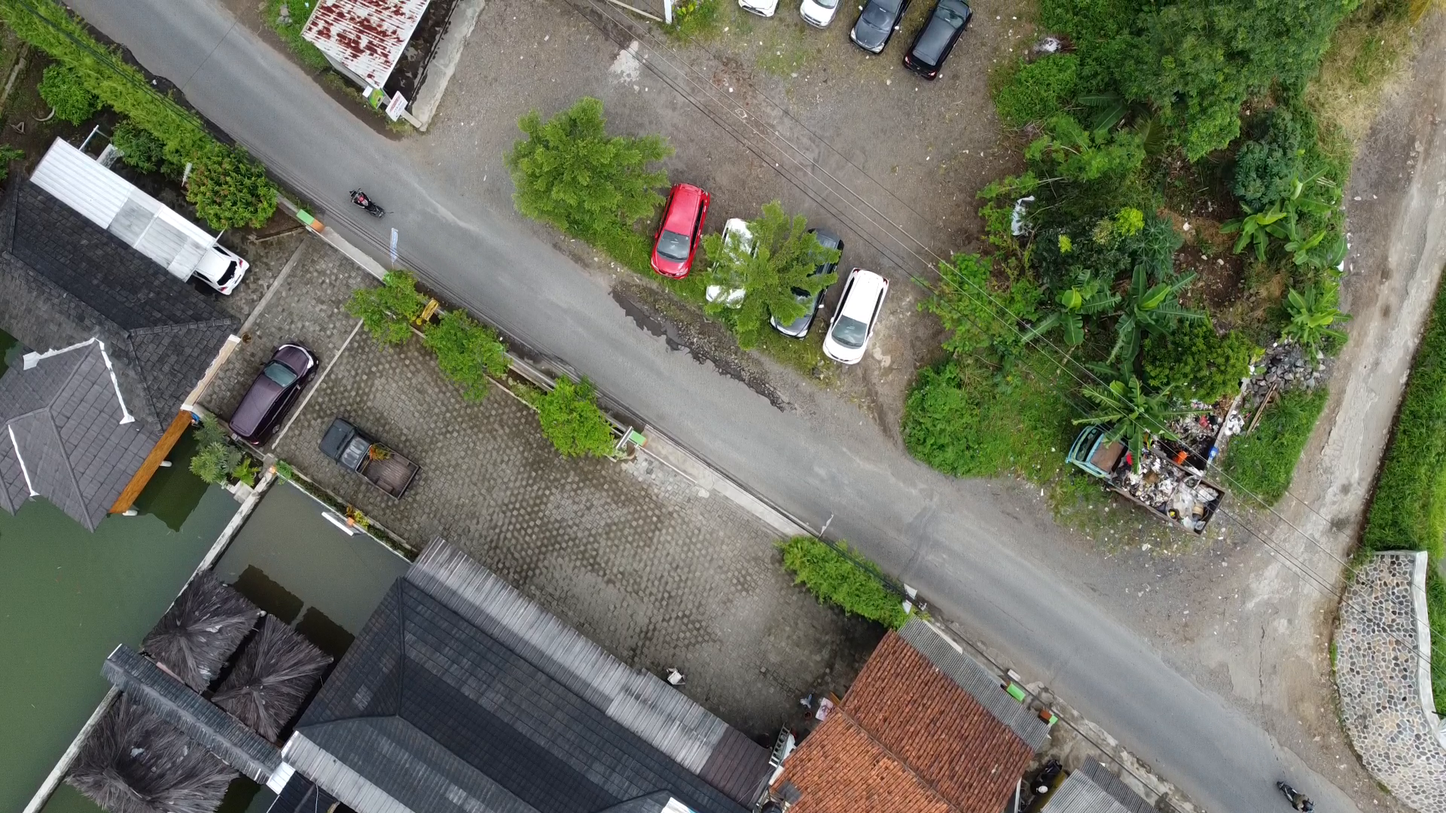mobil: (315, 409, 426, 506), (216, 341, 315, 441), (825, 258, 900, 374), (773, 224, 844, 344), (640, 184, 715, 297), (914, 1, 984, 76), (705, 207, 755, 304), (194, 238, 258, 296)
